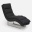chair: (1, 2, 31, 30)
